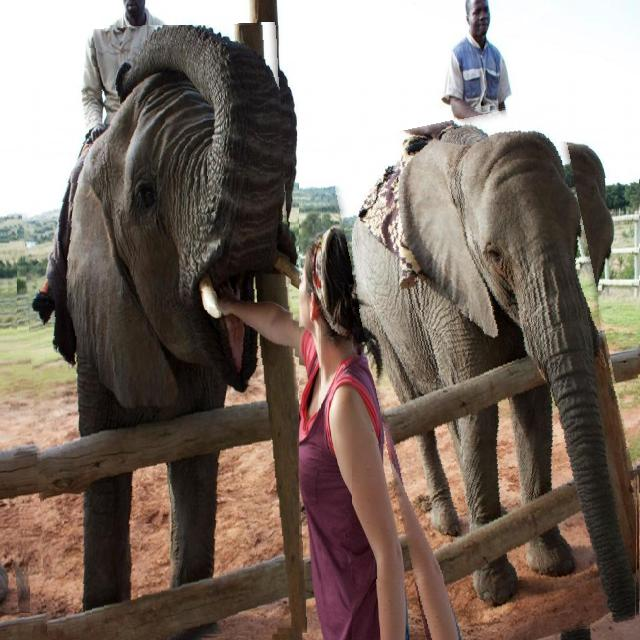elephant: (20, 25, 299, 640), (352, 106, 640, 640), (0, 203, 17, 613)
